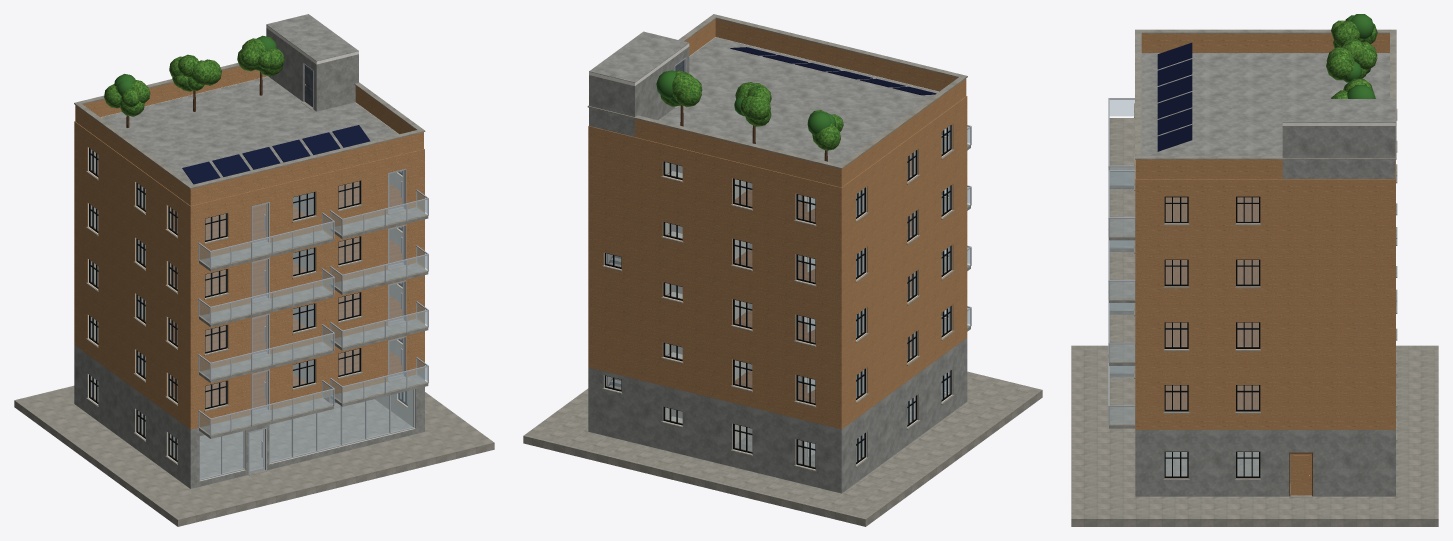
File: b_eco_apartments.gltf
3 views of the same model, side by side, from view 1: azimuth 30°, elevation 25°; view 2: azimuth 150°, elevation 25°; view 3: azimuth 270°, elevation 25° (orthographic). The views are drawn at different scales.
Parts seen in each view (by area): view 1: S_eco_apartments, D_eco_apartments_F1_S2_Door0, D_eco_apartments_F4_S1_Door0, D_eco_apartments_F5_S4_Door0, D_eco_apartments_F3_S1_Door0, D_eco_apartments_F2_S4_Door0, D_eco_apartments_F4_S4_Door0, D_eco_apartments_F5_S1_Door0, D_eco_apartments_F2_S1_Door0, D_eco_apartments_F3_S4_Door0; view 2: S_eco_apartments; view 3: S_eco_apartments, D_eco_apartments_F1_E2_Door0.
Part boxes in pixels (box(x1,y1,x2,y2)): S_eco_apartments: box(14, 14, 494, 526); D_eco_apartments_F1_S2_Door0: box(249, 429, 264, 473); D_eco_apartments_F4_S1_Door0: box(252, 259, 267, 301); D_eco_apartments_F5_S4_Door0: box(389, 170, 404, 212); D_eco_apartments_F3_S1_Door0: box(252, 315, 267, 357); D_eco_apartments_F2_S4_Door0: box(389, 337, 404, 379); D_eco_apartments_F4_S4_Door0: box(389, 226, 404, 268); D_eco_apartments_F5_S1_Door0: box(252, 203, 267, 245); D_eco_apartments_F2_S1_Door0: box(252, 371, 267, 412); D_eco_apartments_F3_S4_Door0: box(389, 282, 404, 323); S_eco_apartments: box(523, 14, 1042, 526); S_eco_apartments: box(1071, 14, 1438, 526); D_eco_apartments_F1_E2_Door0: box(1290, 453, 1311, 495).
Size of the model in its own units: 19 by 19.84 by 17.
23 materials, 12 textured.
